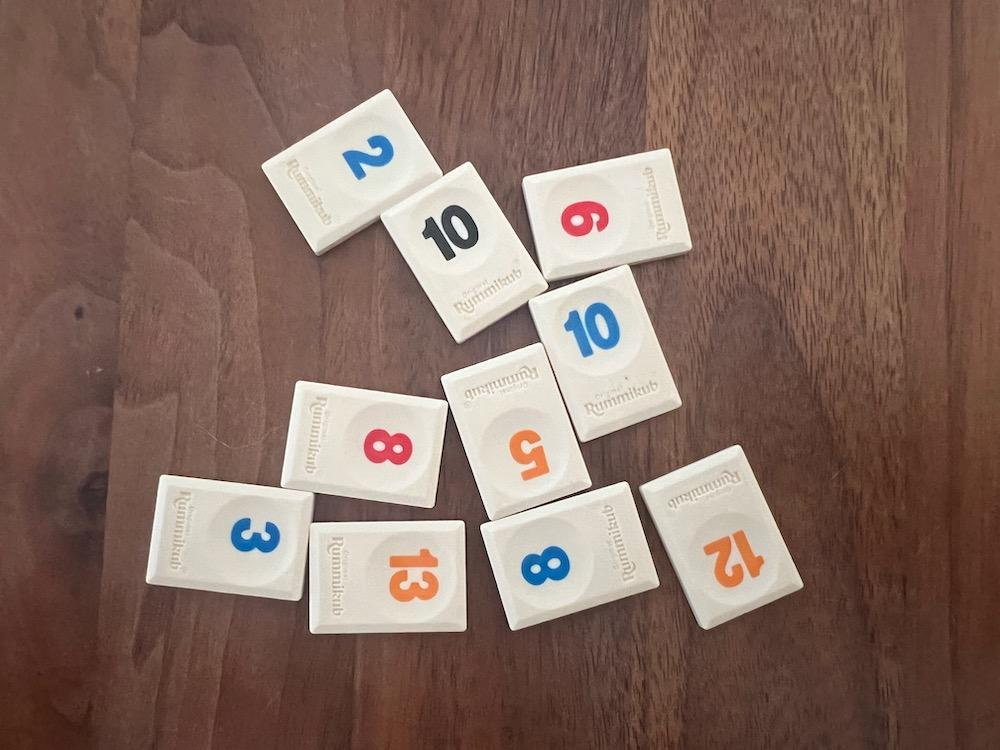black_10: (381, 162, 547, 342)
blue_10: (529, 266, 682, 441)
blue_2: (264, 90, 443, 254)
blue_3: (146, 475, 314, 600)
blue_8: (482, 482, 658, 631)
orange_12: (641, 445, 803, 629)
orange_13: (311, 521, 467, 633)
orange_5: (441, 344, 592, 520)
red_8: (281, 381, 447, 508)
red_9: (523, 148, 691, 281)
